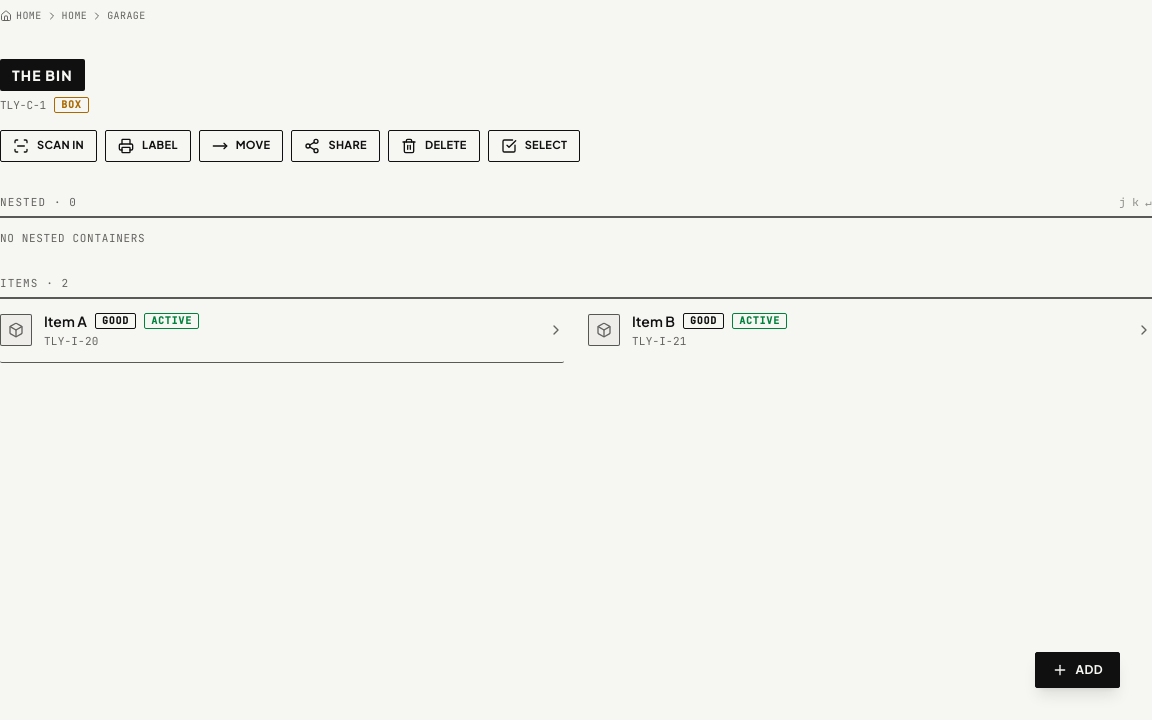
Scenario: the "N selected" count freezes at the batch size while a delete loop runs, instead of counting down against the progress label
Click the button "Select" at [534, 146], box [488,130,580,162]
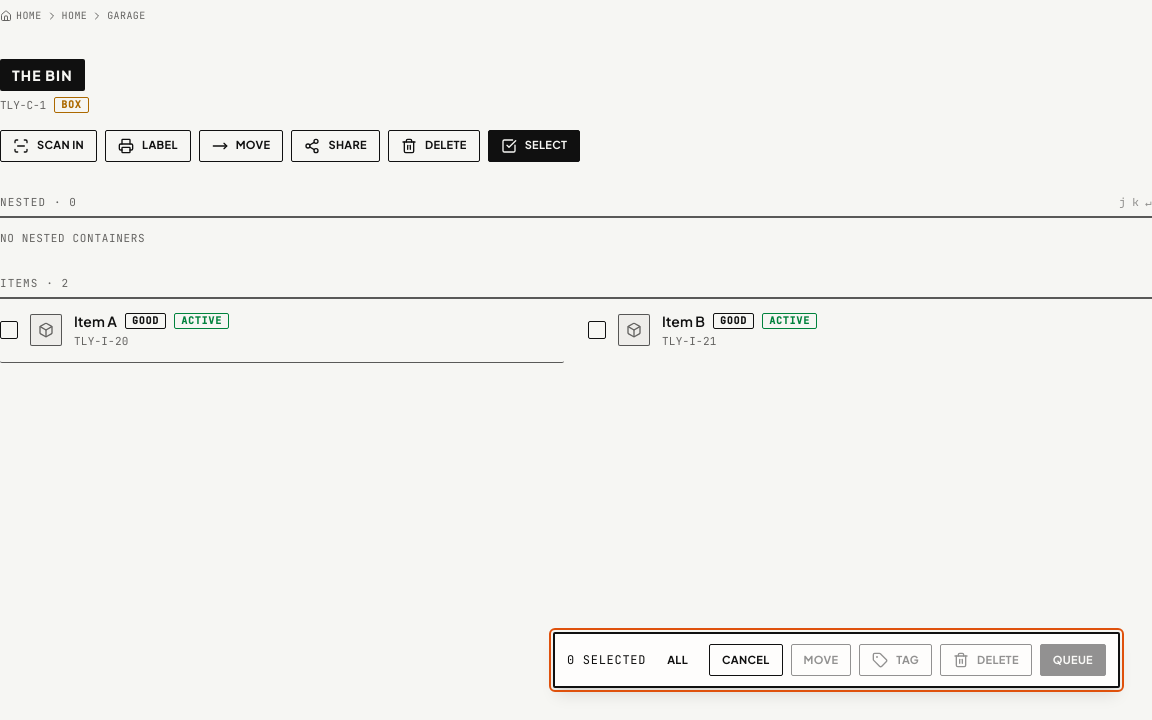
Click the button "All" at [678, 660], box [654,644,701,676]
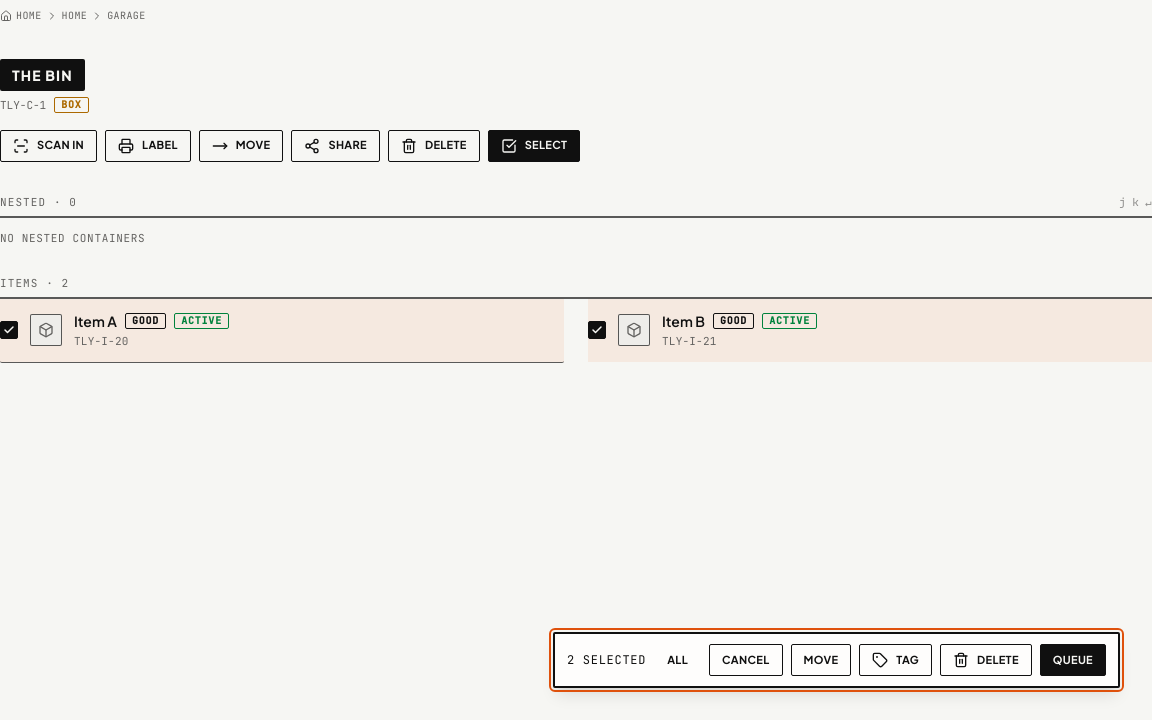
Check: the text "2 selected" is shown, box [567,652,646,668]
Click the button "Delete" in the row of "selected" at [986, 660], box [940,644,1032,676]
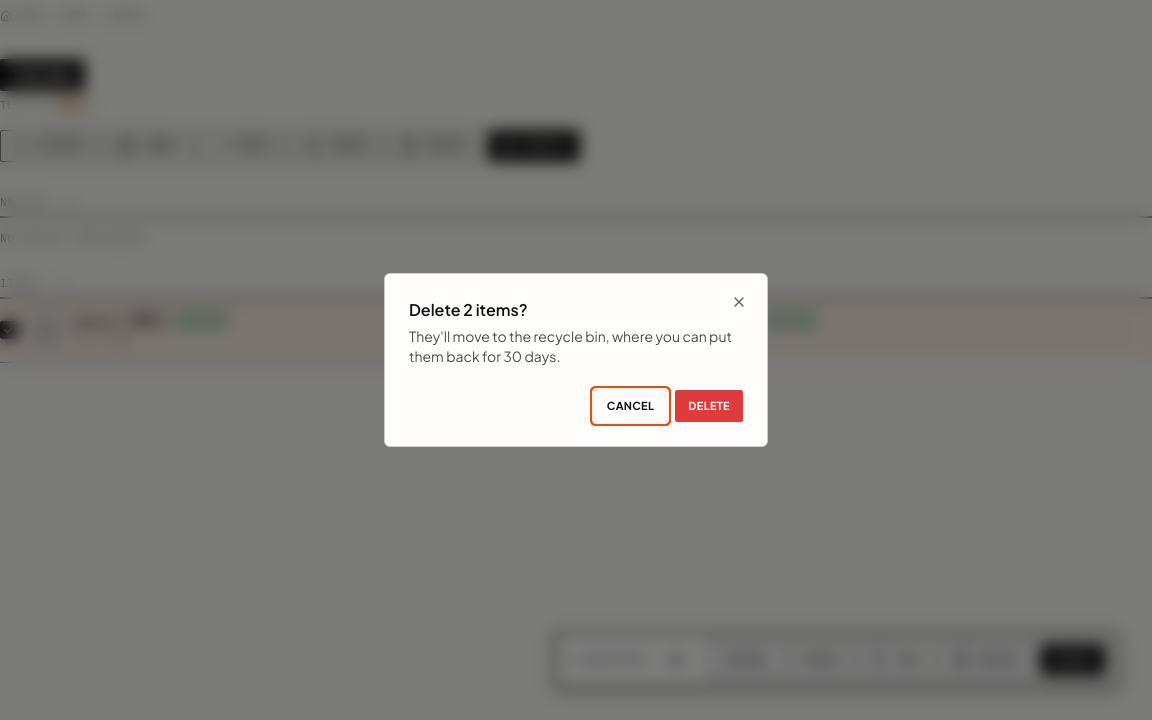
Click the button "Delete" at [709, 406], box [675,390,743,422]
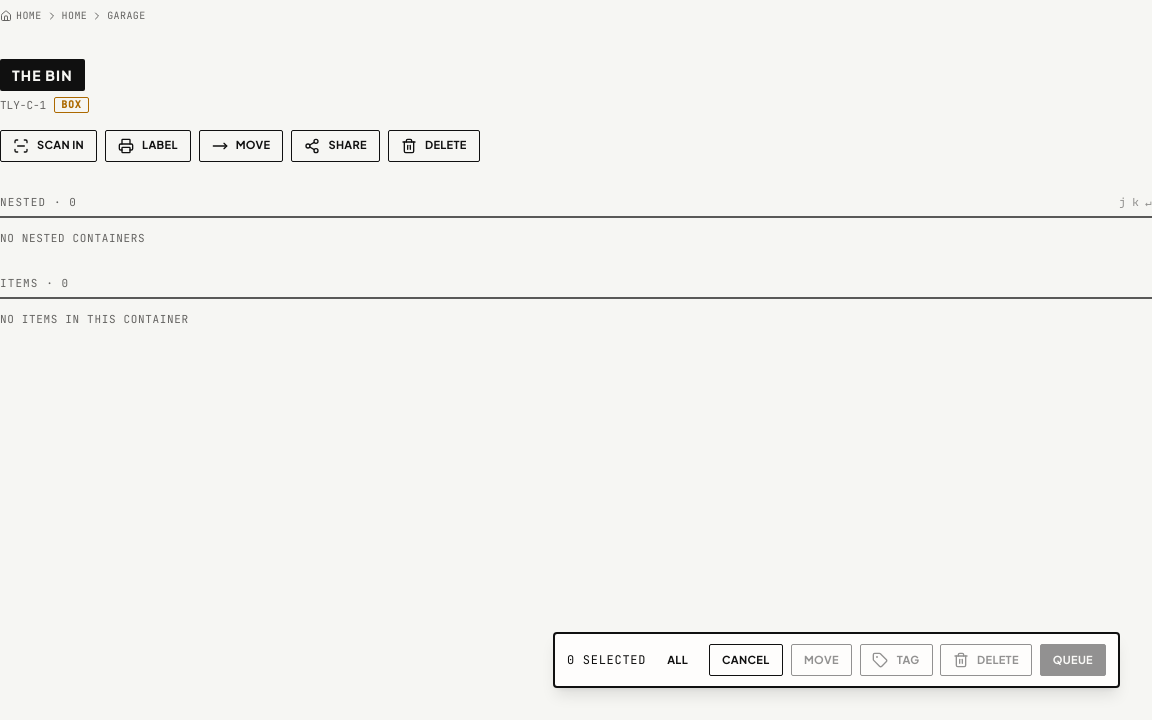
Check: the button "Deleting… 2 of 2" in the row of "selected" is shown, box [940,644,1032,676]
Check: the text "0 selected" is shown, box [567,652,646,668]
